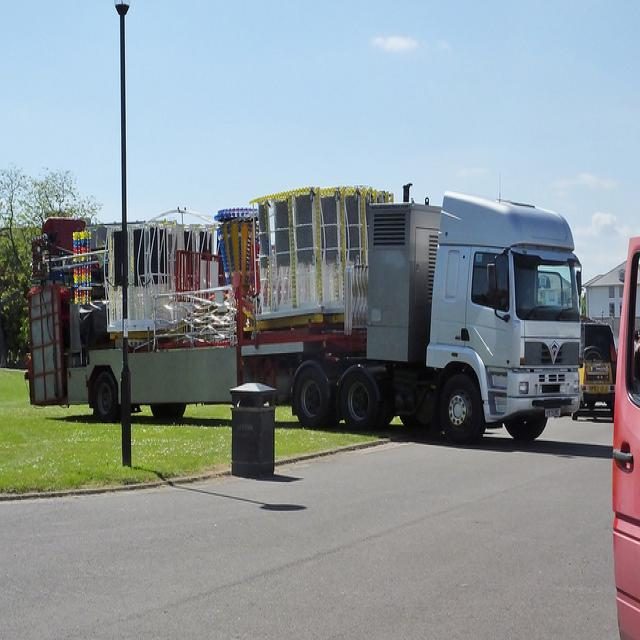Vehicle: (132, 184, 579, 445), (607, 237, 640, 630), (575, 321, 617, 416)
